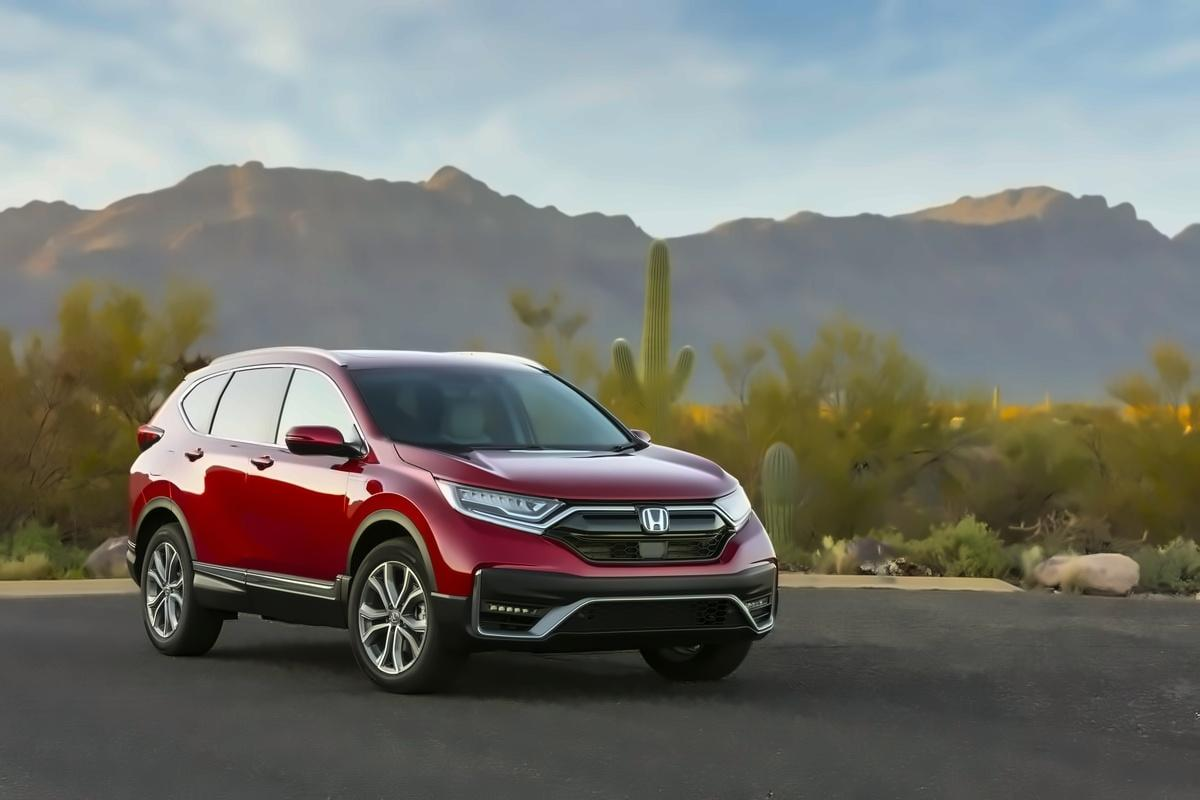Car hood: (390, 436, 739, 504)
Driver-s door - -F-R-: (233, 342, 368, 632)
Fender - -F-R-: (331, 438, 437, 629)
Fender - -R-R-: (128, 369, 204, 555)
Front bumper: (422, 539, 788, 670)
Headlight - -L-: (715, 478, 753, 533)
Headlight - -R-: (428, 475, 568, 535)
Passenger-s door - -R-R-: (180, 336, 278, 631)
Rear light - -R-: (129, 426, 166, 463)
Side bumper - -R-: (180, 559, 346, 647)
Side mirror - -R-: (286, 424, 365, 473)
